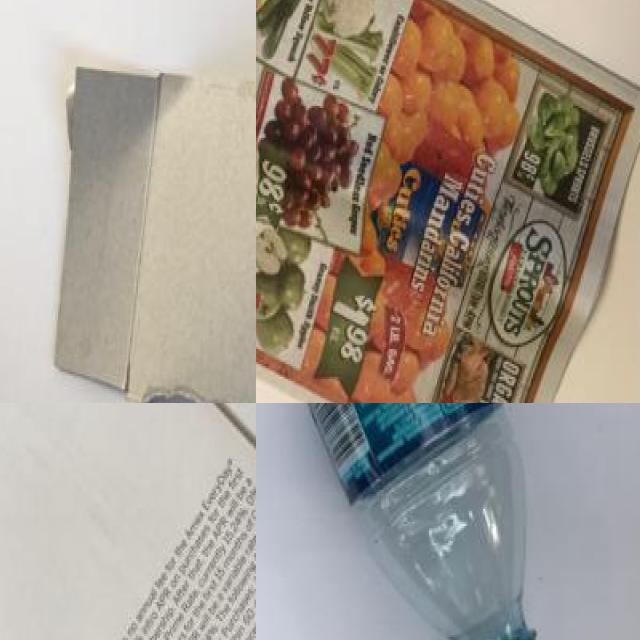paper: (256, 0, 639, 403), (47, 49, 256, 403), (0, 403, 256, 640)
plastic: (258, 403, 568, 640)
